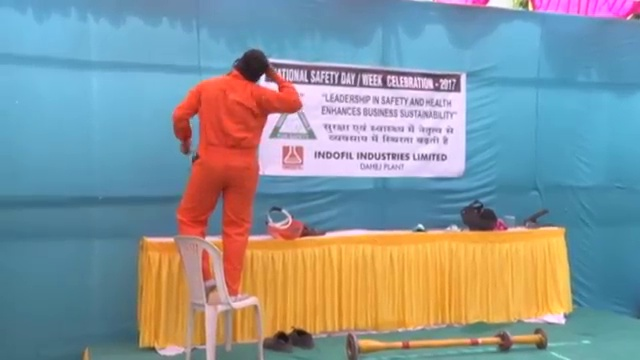helmet_off: (233, 50, 269, 82)
person: (173, 48, 305, 306)
